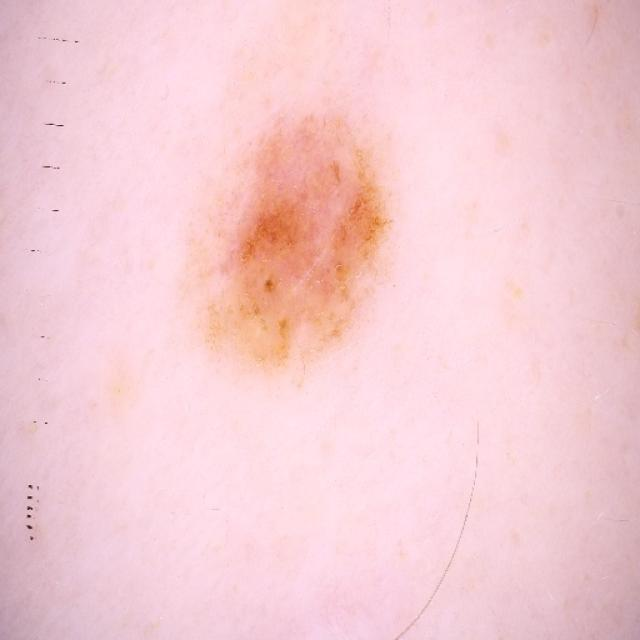Melanoma: (216, 116, 388, 360)
